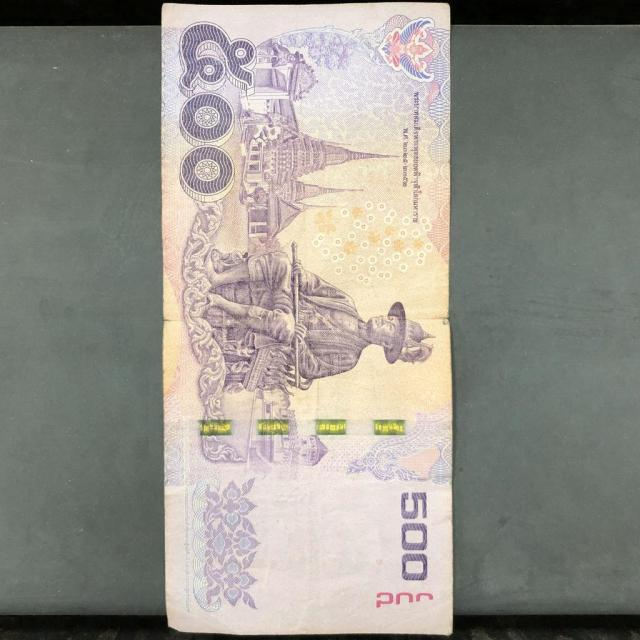THAI500: (162, 2, 452, 634)
